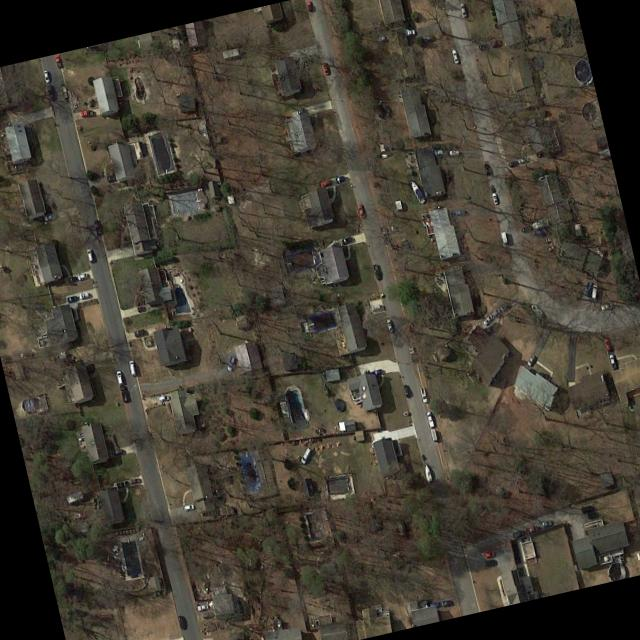large-vehicle: (298, 445, 311, 463), (225, 355, 235, 369), (78, 108, 93, 117)
ship: (407, 177, 425, 202), (530, 215, 549, 229), (422, 461, 432, 484), (529, 302, 543, 317), (532, 226, 548, 235)
small-vehicle: (486, 319, 499, 334), (46, 83, 56, 100), (498, 299, 512, 311), (356, 202, 366, 218), (118, 385, 127, 402), (419, 385, 428, 402), (372, 263, 381, 279), (482, 313, 493, 326), (525, 352, 536, 365), (525, 523, 539, 533), (128, 358, 136, 375), (177, 614, 186, 629), (580, 503, 595, 512), (115, 369, 124, 384), (586, 509, 599, 519), (201, 609, 214, 619), (53, 52, 61, 68), (73, 509, 87, 518), (583, 280, 592, 294), (450, 48, 459, 62), (513, 528, 525, 538), (93, 217, 100, 234), (426, 409, 433, 426), (156, 392, 169, 401), (377, 32, 390, 41), (517, 155, 530, 164), (403, 383, 411, 397), (483, 161, 491, 175), (590, 283, 598, 297), (460, 1, 467, 17), (371, 367, 383, 376), (319, 177, 331, 186), (183, 502, 195, 511), (600, 301, 612, 310), (490, 37, 502, 46), (507, 158, 519, 167), (386, 317, 393, 332), (115, 479, 128, 487), (109, 447, 122, 455), (452, 207, 465, 215), (132, 327, 145, 335), (484, 557, 497, 565), (195, 602, 208, 610), (42, 69, 50, 82), (540, 518, 553, 526), (341, 234, 352, 243), (76, 271, 87, 280), (42, 212, 53, 221), (479, 41, 490, 50), (86, 247, 93, 261), (536, 149, 548, 157), (521, 224, 533, 232), (321, 61, 328, 74), (604, 336, 611, 349), (65, 274, 76, 282), (333, 174, 344, 182), (77, 291, 89, 298), (491, 191, 498, 203), (297, 105, 306, 114), (490, 307, 500, 315), (440, 598, 451, 605), (66, 294, 77, 301), (106, 174, 117, 181), (129, 476, 140, 483), (404, 28, 415, 35), (430, 600, 439, 608), (305, 0, 312, 10), (422, 33, 432, 40), (433, 148, 442, 155), (484, 550, 494, 556), (449, 148, 459, 154), (137, 304, 146, 310), (609, 353, 614, 363)
